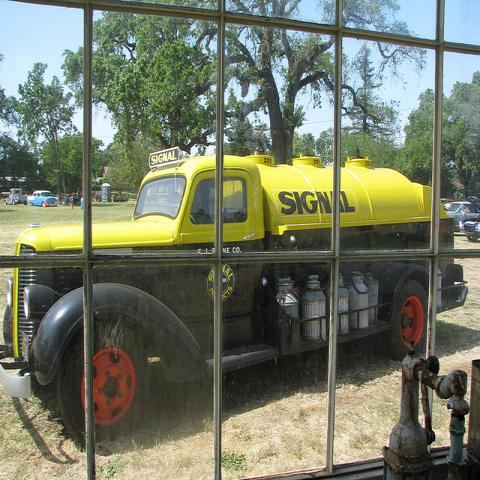car: (443, 202, 480, 232), (458, 212, 480, 242), (27, 190, 59, 206)
truck: (0, 151, 469, 446), (4, 188, 27, 205)
